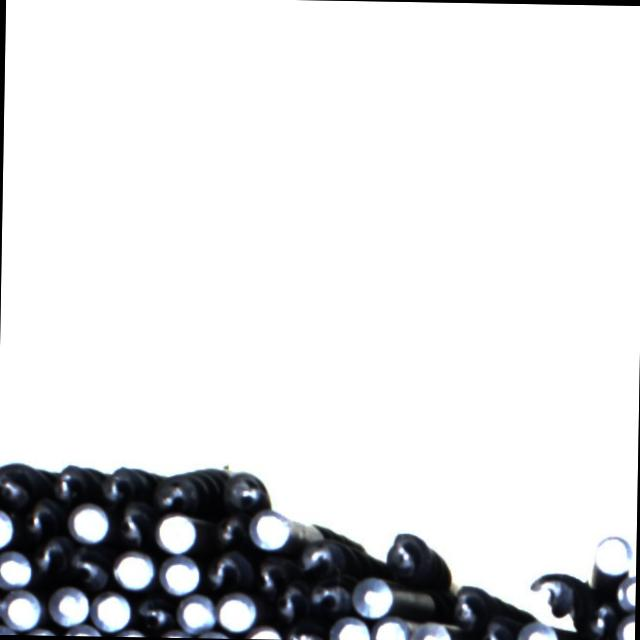tool: (590, 532, 636, 576), (1, 588, 44, 630), (48, 584, 90, 627), (352, 576, 394, 618), (91, 588, 132, 631), (66, 501, 109, 542), (215, 591, 258, 632), (158, 553, 201, 594), (155, 511, 197, 552), (249, 508, 291, 548), (111, 550, 152, 590), (177, 594, 216, 632), (0, 548, 32, 588), (328, 614, 370, 640), (371, 614, 411, 640), (411, 619, 452, 640), (517, 620, 558, 640), (616, 570, 636, 610), (0, 507, 14, 548)
tool_b: (526, 568, 588, 622), (154, 466, 224, 508), (292, 534, 346, 578), (384, 528, 430, 579), (63, 542, 109, 588), (98, 463, 150, 502), (247, 548, 293, 592), (302, 572, 346, 616), (51, 463, 98, 503), (0, 460, 40, 505), (225, 467, 268, 508), (111, 504, 151, 548), (448, 583, 488, 627), (21, 496, 62, 538), (203, 551, 248, 589), (209, 510, 253, 548), (130, 592, 174, 630), (264, 581, 304, 621), (31, 535, 68, 574), (582, 599, 615, 640), (280, 616, 326, 640), (478, 611, 515, 640)
